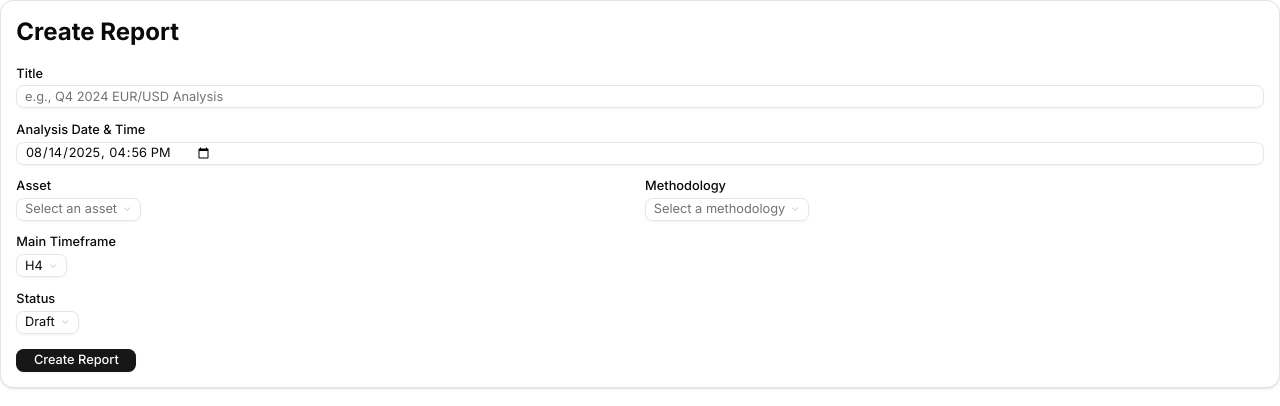
Test case: ReportForm › displays asset options with symbol and name
Click the dropdown labelled "Select an asset".
click(79, 210)  # box [16,198,141,221]
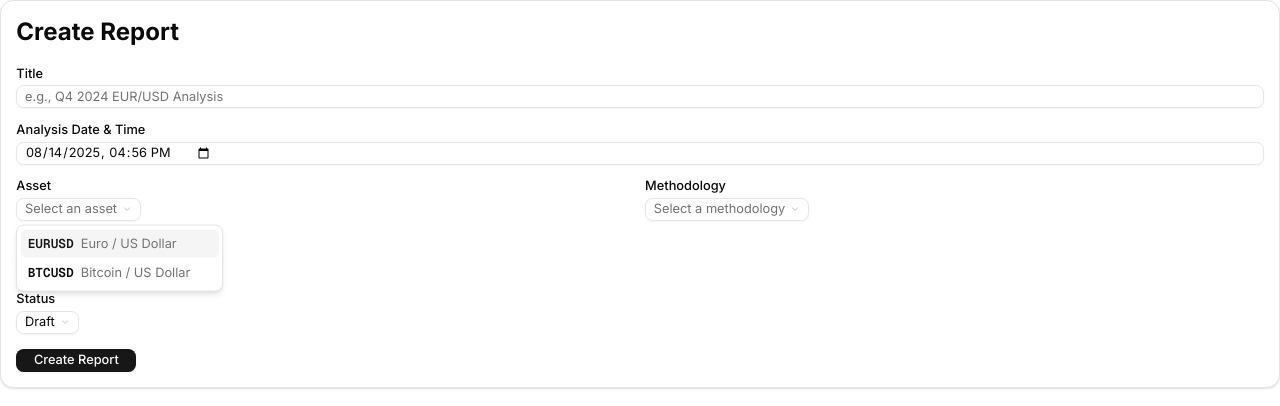
expect the text "EURUSD" is shown: met, box [28,234,74,253]
expect the text "Euro / US Dollar" is shown: met, box [81,234,177,253]
expect the text "BTCUSD" is shown: met, box [28,263,74,282]
